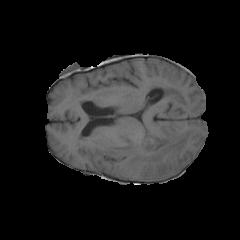glioma: (103, 124, 193, 178)
